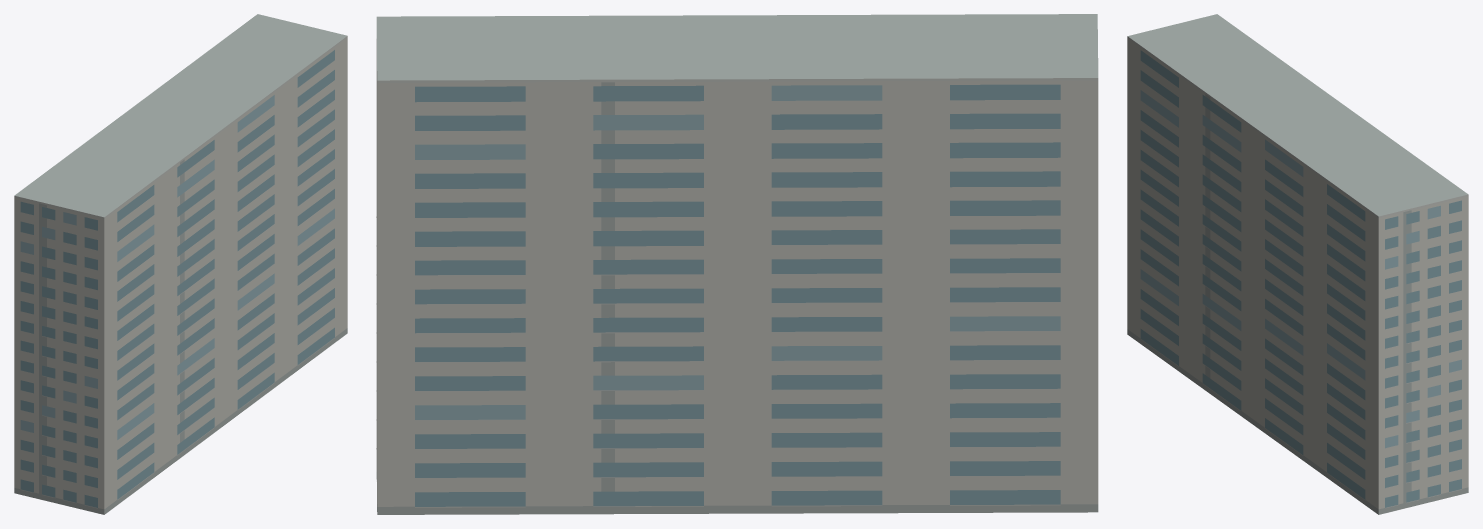
The model's file is residential-21588369-dd17-4c2d-83ba-34ec5a592629.glb.
3 views of the same model, side by side, from view 1: azimuth 30°, elevation 25°; view 2: azimuth 150°, elevation 25°; view 3: azimuth 270°, elevation 25° (orthographic). The views are drawn at different scales.
Visible parts, largest first — view 1: residential-21588369-dd17-4c2d-83ba-34ec5a592629.tmp; view 2: residential-21588369-dd17-4c2d-83ba-34ec5a592629.tmp; view 3: residential-21588369-dd17-4c2d-83ba-34ec5a592629.tmp.
Part boxes in pixels (x1,y1,x2,y2): residential-21588369-dd17-4c2d-83ba-34ec5a592629.tmp: [14, 14, 347, 514]; residential-21588369-dd17-4c2d-83ba-34ec5a592629.tmp: [376, 14, 1098, 514]; residential-21588369-dd17-4c2d-83ba-34ec5a592629.tmp: [1127, 14, 1468, 514].
Size of the model in its own units: 61.15 by 42 by 43.51.
